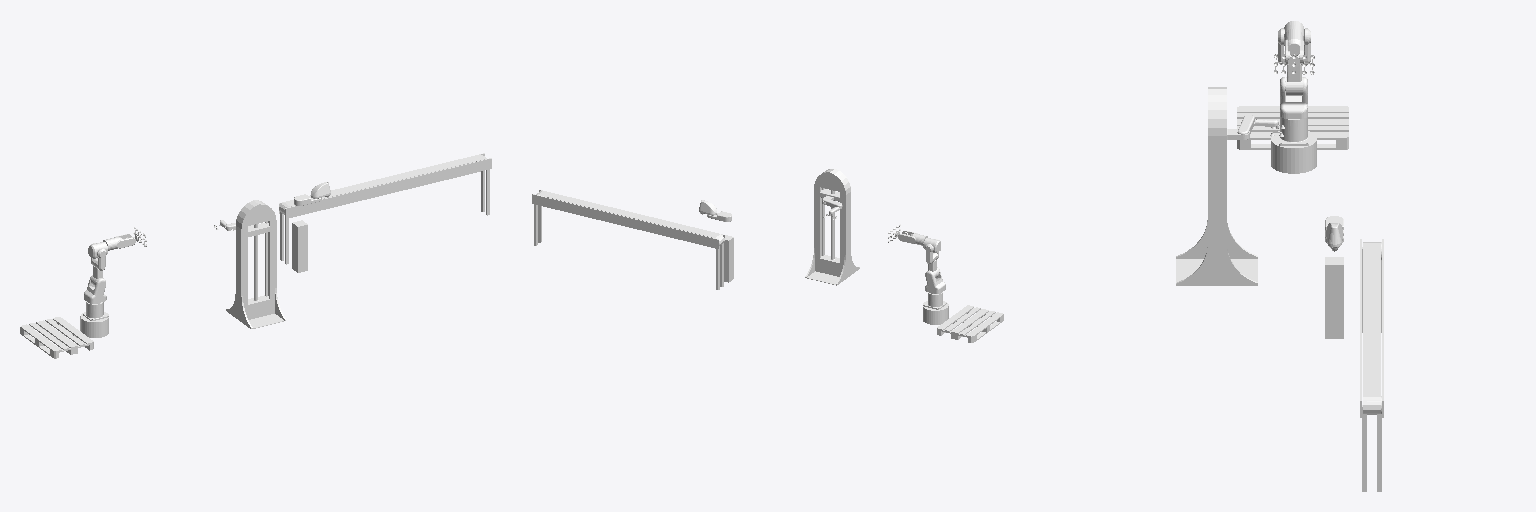
--- What the picture shows (computed from the rendered views, not written in the file) ---
Views: 3 orthographic renders of the robot side by side, from view 1: azimuth 30°, elevation 25°; view 2: azimuth 150°, elevation 25°; view 3: azimuth 270°, elevation 25°.
Robot: rod — 24 links, 23 joints (12 revolute, 2 prismatic, 9 fixed); root link world; default pose: all joints at 0.
Links seen in each view (by area): view 1: conveyor1_joint, pillar_basejoint, palette, scarasocket, sixaxissocket; view 2: conveyor1_joint, pillar_basejoint, palette; view 3: pillar_basejoint, conveyor1_joint, palette, scarasocket, sixaxissocket, sixaxis_j2, sixaxis_j1, sixaxis_joint, sixaxis_j4.
Boxes of the visible links, box(x1,y1,x2,y2) form: conveyor1_joint: box(279, 153, 491, 264); pillar_basejoint: box(226, 200, 285, 328); palette: box(20, 317, 93, 358); scarasocket: box(292, 220, 307, 272); sixaxissocket: box(80, 312, 108, 337); conveyor1_joint: box(532, 190, 724, 289); pillar_basejoint: box(805, 169, 859, 285); palette: box(937, 305, 1003, 342); pillar_basejoint: box(1176, 87, 1257, 285); conveyor1_joint: box(1360, 239, 1383, 491); palette: box(1237, 106, 1348, 149); scarasocket: box(1325, 257, 1343, 338); sixaxissocket: box(1271, 131, 1316, 173); sixaxis_j2: box(1278, 28, 1310, 95); sixaxis_j1: box(1280, 77, 1307, 118); sixaxis_joint: box(1279, 117, 1308, 145); sixaxis_j4: box(1285, 29, 1303, 62).
Size in the robot's own frame: 9.47 by 2.22 by 2.16 metres.
17 mesh visuals loaded from 23 distinct referenced files (17 binary STL); not drawn: 6 (reference not matched to a file when rendering).

robot.urdf — rod:
<?xml version="1.0" encoding="utf-8" ?>
<!-- This URDF was automatically created by SolidWorks to URDF Exporter! Originally created by Stephen Brawner ([email redacted]) 
     Commit Version: 1.6.0-4-g7f85cfe  Build Version: 1.6.7995.38578
     For more information, please see http://wiki.ros.org/sw_urdf_exporter -->
<robot name="rod">
    <link name="world" />
    <joint name="fixed_link_to_world" type="fixed">
        <parent link="world" />
        <child link="base_link" />
    </joint>
    <link name="base_link">
        <inertial>
            <origin xyz="-6.83047368665868E-18 0.025 1.94478764689587E-18" rpy="0 0 0" />
            <mass value="2.375" />
            <inertia ixx="0.000989583333333334" ixy="-8.58326719884358E-21" ixz="2.14581679971091E-21" iyy="0.000989583333333334" iyz="0" izz="0.000989583333333334" />
        </inertial>
        <visual>
            <origin xyz="0 0 0" rpy="0 0 0" />
            <geometry>
                <mesh filename="package://rod/meshes/base_link.STL" />
            </geometry>
            <material name="">
                <color rgba="1 1 1 1" />
            </material>
        </visual>
        <collision>
            <origin xyz="0 0 0" rpy="0 0 0" />
            <geometry>
                <mesh filename="package://rod/meshes/base_link.STL" />
            </geometry>
        </collision>
    </link>
    <link name="scara_basejoint">
        <inertial>
            <origin xyz="8.88178419700125E-16 0 0.180234931906412" rpy="0 0 0" />
            <mass value="50.5064528015554" />
            <inertia ixx="0.507467643046138" ixy="1.24672661923992E-18" ixz="-7.66356004006932E-18" iyy="0.507467643046138" iyz="7.42216945274078E-18" izz="0.164615591191858" />
        </inertial>
        <visual>
            <origin xyz="0 0 0" rpy="0 0 0" />
            <geometry>
                <mesh filename="package://rod/meshes/scara_basejoint.STL" />
            </geometry>
            <material name="">
                <color rgba="1 1 1 1" />
            </material>
        </visual>
        <collision>
            <origin xyz="0 0 0" rpy="0 0 0" />
            <geometry>
                <mesh filename="package://rod/meshes/scara_basejoint.STL" />
            </geometry>
        </collision>
    </link>
    <joint name="sj0" type="fixed">
        <origin xyz="6.4623 -1.1337 0.88" rpy="0 0 0" />
        <parent link="base_link" />
        <child link="scara_basejoint" />
        <axis xyz="0 0 0" />
    </joint>
    <link name="scara_j1">
        <inertial>
            <origin xyz="0.120817727289338 9.30999931370025E-07 0.05137702387886" rpy="0 0 0" />
            <mass value="49.5926714803606" />
            <inertia ixx="0.222900609838825" ixy="1.33392967924855E-16" ixz="0.0739678064109206" iyy="0.736885929341892" iyz="2.45391377787028E-17" izz="0.865091612076402" />
        </inertial>
        <visual>
            <origin xyz="0 0 0" rpy="0 0 0" />
            <geometry>
                <mesh filename="package://rod/meshes/scara_j1.STL" />
            </geometry>
            <material name="">
                <color rgba="1 1 1 1" />
            </material>
        </visual>
        <collision>
            <origin xyz="0 0 0" rpy="0 0 0" />
            <geometry>
                <mesh filename="package://rod/meshes/scara_j1.STL" />
            </geometry>
        </collision>
    </link>
    <joint name="sj1" type="revolute">
        <origin xyz="0 0 0.375" rpy="0 0 0" />
        <parent link="scara_basejoint" />
        <child link="scara_j1" />
        <axis xyz="0 0 1" />
        <limit lower="-2.7" upper="2.7" effort="10" velocity="9.2" />
        <dynamics damping="10" friction="0.1" />
    </joint>
    <link name="scara_j2">
        <inertial>
            <origin xyz="-0.112811619112002 2.03690355693453E-08 -0.0848826662381605" rpy="0 0 0" />
            <mass value="32.5846948095504" />
            <inertia ixx="0.16446281982603" ixy="-2.66721834505766E-07" ixz="0.00501596079266007" iyy="0.377276755482316" iyz="1.55740957962355E-07" izz="0.328743826647256" />
        </inertial>
        <visual>
            <origin xyz="0 0 0" rpy="0 0 0" />
            <geometry>
                <mesh filename="package://rod/meshes/scara_j2.STL" />
            </geometry>
            <material name="">
                <color rgba="1 1 1 1" />
            </material>
        </visual>
        <collision>
            <origin xyz="0 0 0" rpy="0 0 0" />
            <geometry>
                <mesh filename="package://rod/meshes/scara_j2.STL" />
            </geometry>
        </collision>
    </link>
    <joint name="sj2" type="revolute">
        <origin xyz="0.325 0 0.06" rpy="3.1416 0 3.1416" />
        <parent link="scara_j1" />
        <child link="scara_j2" />
        <axis xyz="0 0 1" />
        <limit lower="-2.7" upper="2.7" effort="10" velocity="7.9" />
        <dynamics damping="10" friction="0.1" />
    </joint>
    <link name="scara_j3">
        <inertial>
            <origin xyz="0 2.22044604925031E-16 -0.185" rpy="0 0 0" />
            <mass value="0.460306155603976" />
            <inertia ixx="0.00526283371240547" ixy="3.24877251208374E-37" ixz="-1.64330554039326E-19" iyy="0.00526283371240547" iyz="3.7161231317094E-34" izz="2.30153077801988E-05" />
        </inertial>
        <visual>
            <origin xyz="0 0 0" rpy="0 0 0" />
            <geometry>
                <mesh filename="package://rod/meshes/scara_j3.STL" />
            </geometry>
            <material name="">
                <color rgba="1 1 1 1" />
            </material>
        </visual>
        <collision>
            <origin xyz="0 0 0" rpy="0 0 0" />
            <geometry>
                <mesh filename="package://rod/meshes/scara_j3.STL" />
            </geometry>
        </collision>
    </link>
    <joint name="sj3" type="prismatic">
        <origin xyz="-0.225 0 0.06926" rpy="0 0 0" />
        <parent link="scara_j2" />
        <child link="scara_j3" />
        <axis xyz="0 0 1" />
        <limit lower="0" upper="0.32" effort="10" velocity="2" />
        <dynamics damping="10" friction="0.1" />
    </joint>
    <link name="scara_jEE">
        <inertial>
            <origin xyz="0.00127508094275353 0.00991837529988793 0.0115960504326884" rpy="0 0 0" />
            <mass value="0.00734707672394366" />
            <inertia ixx="1.56955034877568E-06" ixy="0" ixz="-1.65346314681135E-22" iyy="1.56955034877568E-06" iyz="2.96350100271735E-23" izz="2.4656723492173E-06" />
        </inertial>
        <visual>
            <origin xyz="0 0 0" rpy="0 0 0" />
            <geometry>
                <mesh filename="package://rod/meshes/scara_jEE.STL" />
            </geometry>
            <material name="">
                <color rgba="1 1 1 1" />
            </material>
        </visual>
        <collision>
            <origin xyz="0 0 0" rpy="0 0 0" />
            <geometry>
                <mesh filename="package://rod/meshes/scara_jEE.STL" />
            </geometry>
        </collision>
    </link>
    <joint name="sEE" type="revolute">
        <origin xyz="0 0 0.021981" rpy="0 0 -3.0137" />
        <parent link="scara_j3" />
        <child link="scara_jEE" />
        <axis xyz="0 0 1" />
        <limit lower="-6.2" upper="6.2" effort="10" velocity="41.9" />
        <dynamics damping="10" friction="0.1" />
    </joint>
    <link name="sixaxis_joint">
        <inertial>
            <origin xyz="0.159749157671926 0.158 0.147343077754866" rpy="0 0 0" />
            <mass value="59.294110549961" />
            <inertia ixx="0.831304150101565" ixy="5.21752188071823E-17" ixz="0.0140370732527636" iyy="0.843648805366523" iyz="-5.15146620011431E-17" izz="0.683446197561202" />
        </inertial>
        <visual>
            <origin xyz="0 0 0" rpy="0 0 0" />
            <geometry>
                <mesh filename="package://rod/meshes/sixaxis_joint.STL" />
            </geometry>
            <material name="">
                <color rgba="1 1 1 1" />
            </material>
        </visual>
        <collision>
            <origin xyz="0 0 0" rpy="0 0 0" />
            <geometry>
                <mesh filename="package://rod/meshes/sixaxis_joint.STL" />
            </geometry>
        </collision>
    </link>
    <joint name="saj0" type="fixed">
        <origin xyz="1.9713 -1.7268 0.3" rpy="0 0 0" />
        <parent link="base_link" />
        <child link="sixaxis_joint" />
        <axis xyz="0 0 0" />
    </joint>
    <link name="sixaxis_j1">
        <inertial>
            <origin xyz="-0.00259211067215492 0.00270619738140598 0.131756347788593" rpy="0 0 0" />
            <mass value="56.4833957451794" />
            <inertia ixx="1.08439391526667" ixy="0.00787710874493965" ixz="0.0888414783459384" iyy="0.976543348530307" iyz="-0.0302507568899708" izz="0.861678896529092" />
        </inertial>
        <visual>
            <origin xyz="0 0 0" rpy="0 0 0" />
            <geometry>
                <mesh filename="package://rod/meshes/sixaxis_j1.STL" />
            </geometry>
            <material name="">
                <color rgba="1 1 1 1" />
            </material>
        </visual>
        <collision>
            <origin xyz="0 0 0" rpy="0 0 0" />
            <geometry>
                <mesh filename="package://rod/meshes/sixaxis_j1.STL" />
            </geometry>
        </collision>
    </link>
    <joint name="saj1" type="revolute">
        <origin xyz="0.168 0.158 0.317" rpy="0 0 3.1416" />
        <parent link="sixaxis_joint" />
        <child link="sixaxis_j1" />
        <axis xyz="0 0 1" />
        <limit lower="-4.3" upper="4.3" effort="10" velocity="8" />
        <dynamics damping="10" friction="0.1" />
    </joint>
    <link name="sixaxis_j2">
        <inertial>
            <origin xyz="-4.31760227570521E-09 0.258404064748791 -0.000356717994700828" rpy="0 0 0" />
            <mass value="52.2168237503069" />
            <inertia ixx="1.07933618868477" ixy="2.58723091051309E-08" ixz="-1.34009681600937E-07" iyy="0.541524461985699" iyz="0.0353877081559204" izz="0.714833922196119" />
        </inertial>
        <visual>
            <origin xyz="0 0 0" rpy="0 0 0" />
            <geometry>
                <mesh filename="package://rod/meshes/sixaxis_j2.STL" />
            </geometry>
            <material name="">
                <color rgba="1 1 1 1" />
            </material>
        </visual>
        <collision>
            <origin xyz="0 0 0" rpy="0 0 0" />
            <geometry>
                <mesh filename="package://rod/meshes/sixaxis_j2.STL" />
            </geometry>
        </collision>
    </link>
    <joint name="saj2" type="revolute">
        <origin xyz="-0.054129 -0.002 0.32966" rpy="1.5708 0 0" />
        <parent link="sixaxis_j1" />
        <child link="sixaxis_j2" />
        <axis xyz="0 0 1" />
        <limit lower="-2" upper="2" effort="10" velocity="6.6" />
        <dynamics damping="10" friction="0.1" />
    </joint>
    <link name="sixaxis_j3">
        <inertial>
            <origin xyz="0.00477403400076337 0.035439954944116 -0.0156641341829327" rpy="0 0 0" />
            <mass value="33.221439562987" />
            <inertia ixx="0.341529061136126" ixy="0.00128174838595925" ixz="-0.00153661400028046" iyy="0.303384628575149" iyz="-0.0297967616518859" izz="0.257324332747641" />
        </inertial>
        <visual>
            <origin xyz="0 0 0" rpy="0 0 0" />
            <geometry>
                <mesh filename="package://rod/meshes/sixaxis_j3.STL" />
            </geometry>
            <material name="">
                <color rgba="1 1 1 1" />
            </material>
        </visual>
        <collision>
            <origin xyz="0 0 0" rpy="0 0 0" />
            <geometry>
                <mesh filename="package://rod/meshes/sixaxis_j3.STL" />
            </geometry>
        </collision>
    </link>
    <joint name="saj3" type="revolute">
        <origin xyz="0 0.556 0" rpy="3.1416 0 3.1416" />
        <parent link="sixaxis_j2" />
        <child link="sixaxis_j3" />
        <axis xyz="0 0 1" />
        <limit lower="-3.6" upper="1" effort="10" velocity="4.9" />
        <dynamics damping="10" friction="0.1" />
    </joint>
    <link name="sixaxis_j4">
        <inertial>
            <origin xyz="0.000575031491283129 -1.46367007403114E-09 0.230214046287128" rpy="0 0 0" />
            <mass value="35.734803464823" />
            <inertia ixx="0.81176808395228" ixy="1.41424306826545E-07" ixz="-0.00572860613473542" iyy="0.854333032963434" iyz="3.04517481855299E-09" izz="0.20561661100466" />
        </inertial>
        <visual>
            <origin xyz="0 0 0" rpy="0 0 0" />
            <geometry>
                <mesh filename="package://rod/meshes/sixaxis_j4.STL" />
            </geometry>
            <material name="">
                <color rgba="1 1 1 1" />
            </material>
        </visual>
        <collision>
            <origin xyz="0 0 0" rpy="0 0 0" />
            <geometry>
                <mesh filename="package://rod/meshes/sixaxis_j4.STL" />
            </geometry>
        </collision>
    </link>
    <joint name="saj4" type="revolute">
        <origin xyz="0.1245 0.064 0" rpy="3.1416 -1.5708 0" />
        <parent link="sixaxis_j3" />
        <child link="sixaxis_j4" />
        <axis xyz="0 0 1" />
        <limit lower="-4" upper="4" effort="10" velocity="9.8" />
        <dynamics damping="10" friction="0.1" />
    </joint>
    <link name="sixaxis_j5">
        <inertial>
            <origin xyz="-1.46791752086983E-08 -0.0291959911456368 0.0644868991245442" rpy="0 0 0" />
            <mass value="8.17650516153953" />
            <inertia ixx="0.0361761814173097" ixy="-1.2489302263826E-08" ixz="2.71819456875286E-08" iyy="0.0221755722979237" iyz="0.000599929685722274" izz="0.0379199397591049" />
        </inertial>
        <visual>
            <origin xyz="0 0 0" rpy="0 0 0" />
            <geometry>
                <mesh filename="package://rod/meshes/sixaxis_j5.STL" />
            </geometry>
            <material name="">
                <color rgba="1 1 1 1" />
            </material>
        </visual>
        <collision>
            <origin xyz="0 0 0" rpy="0 0 0" />
            <geometry>
                <mesh filename="package://rod/meshes/sixaxis_j5.STL" />
            </geometry>
        </collision>
    </link>
    <joint name="saj5" type="revolute">
        <origin xyz="0 -0.028 0.509" rpy="-1.5708 0.017333 -1.5708" />
        <parent link="sixaxis_j4" />
        <child link="sixaxis_j5" />
        <axis xyz="0 0 1" />
        <limit lower="-2.2" upper="2.1" effort="10" velocity="7.3" />
        <dynamics damping="10" friction="0.1" />
    </joint>
    <link name="sixaxis_j6">
        <inertial>
            <origin xyz="6.02154166495783E-05 4.02968654544811E-05 0.0292969177312066" rpy="0 0 0" />
            <mass value="1.14880650871049" />
            <inertia ixx="0.00255489983767874" ixy="2.41983385261863E-07" ixz="-2.29897197591324E-06" iyy="0.00760875550673298" iyz="-1.24792345175244E-06" izz="0.00920851979414176" />
        </inertial>
        <visual>
            <origin xyz="0 0 0" rpy="0 0 0" />
            <geometry>
                <mesh filename="package://rod/meshes/sixaxis_j6.STL" />
            </geometry>
            <material name="">
                <color rgba="1 1 1 1" />
            </material>
        </visual>
        <collision>
            <origin xyz="0 0 0" rpy="0 0 0" />
            <geometry>
                <mesh filename="package://rod/meshes/sixaxis_j6.STL" />
            </geometry>
        </collision>
    </link>
    <joint name="saj6" type="revolute">
        <origin xyz="-0.027996 -0.12051 0" rpy="-1.5708 1.5535 -3.1416" />
        <parent link="sixaxis_j5" />
        <child link="sixaxis_j6" />
        <axis xyz="0 0 1" />
        <limit lower="-7" upper="7" effort="10" velocity="9.8" />
        <dynamics damping="10" friction="0.1" />
    </joint>
    <link name="pillar_basejoint">
        <inertial>
            <origin xyz="-4.44089209850063E-16 0.961185945397422 -8.88178419700125E-16" rpy="0 0 0" />
            <mass value="440.373181436866" />
            <inertia ixx="262.029566238266" ixy="-5.43245319528198E-14" ixz="3.29644687413778E-07" iyy="28.4875199934351" iyz="-2.15837538433532E-13" izz="239.907466365276" />
        </inertial>
        <visual>
            <origin xyz="0 0 0" rpy="0 0 0" />
            <geometry>
                <mesh filename="package://rod/meshes/pillar_basejoint.STL" />
            </geometry>
            <material name="">
                <color rgba="1 1 1 1" />
            </material>
        </visual>
        <collision>
            <origin xyz="0 0 0" rpy="0 0 0" />
            <geometry>
                <mesh filename="package://rod/meshes/pillar_basejoint.STL" />
            </geometry>
        </collision>
    </link>
    <joint name="pj0" type="fixed">
        <origin xyz="4.8673 -2.3887 0" rpy="1.5708 0 1.5708" />
        <parent link="base_link" />
        <child link="pillar_basejoint" />
        <axis xyz="0 0 0" />
    </joint>
    <link name="pillar_j1">
        <inertial>
            <origin xyz="-1.95449466389164E-07 -0.00349337256815385 0.0423732277986537" rpy="0 0 0" />
            <mass value="30.651712764964" />
            <inertia ixx="0.36020215199646" ixy="6.19370610087378E-08" ixz="4.11840922305E-07" iyy="0.858956456435983" iyz="0.0187045653707118" izz="0.546868746261457" />
        </inertial>
        <visual>
            <origin xyz="0 0 0" rpy="0 0 0" />
            <geometry>
                <mesh filename="package://rod/meshes/pillar_j1.STL" />
            </geometry>
            <material name="">
                <color rgba="1 1 1 1" />
            </material>
        </visual>
        <collision>
            <origin xyz="0 0 0" rpy="0 0 0" />
            <geometry>
                <mesh filename="package://rod/meshes/pillar_j1.STL" />
            </geometry>
        </collision>
    </link>
    <joint name="pj1" type="prismatic">
        <origin xyz="0 1.6358 0" rpy="0 1.5708 0" />
        <parent link="pillar_basejoint" />
        <child link="pillar_j1" />
        <axis xyz="0 1 0" />
        <limit lower="-1.5" upper="0" effort="10" velocity="4" />
        <dynamics damping="10" friction="0.1" />
    </joint>
    <link name="pillar_j2">
        <inertial>
            <origin xyz="-0.20389278870982 0.00802869915568061 -1.33226762955019E-15" rpy="0 0 0" />
            <mass value="8.51611466678159" />
            <inertia ixx="0.0145697647063247" ixy="-0.00198857519140808" ixz="-7.01045124729127E-16" iyy="0.110968677002792" iyz="-2.74303149638833E-17" izz="0.106336249408429" />
        </inertial>
        <visual>
            <origin xyz="0 0 0" rpy="0 0 0" />
            <geometry>
                <mesh filename="package://rod/meshes/pillar_j2.STL" />
            </geometry>
            <material name="">
                <color rgba="1 1 1 1" />
            </material>
        </visual>
        <collision>
            <origin xyz="0 0 0" rpy="0 0 0" />
            <geometry>
                <mesh filename="package://rod/meshes/pillar_j2.STL" />
            </geometry>
        </collision>
    </link>
    <joint name="pj2" type="revolute">
        <origin xyz="0 -0.005 0.275" rpy="3.1416 0.18639 3.1416" />
        <parent link="pillar_j1" />
        <child link="pillar_j2" />
        <axis xyz="0 1 0" />
        <limit lower="-2.3" upper="2.3" effort="10" velocity="9" />
        <dynamics damping="10" friction="0.1" />
    </joint>
    <link name="pillar_j3">
        <inertial>
            <origin xyz="-0.160423416577163 -0.00500192400098287 -1.37272944122913E-07" rpy="0 0 0" />
            <mass value="3.80734223603023" />
            <inertia ixx="0.00337217248789807" ixy="0.00110960155484936" ixz="-6.75409792929627E-09" iyy="0.0330396543637099" iyz="3.70118305217644E-08" izz="0.031793890358559" />
        </inertial>
        <visual>
            <origin xyz="0 0 0" rpy="0 0 0" />
            <geometry>
                <mesh filename="package://rod/meshes/pillar_j3.STL" />
            </geometry>
            <material name="">
                <color rgba="1 1 1 1" />
            </material>
        </visual>
        <collision>
            <origin xyz="0 0 0" rpy="0 0 0" />
            <geometry>
                <mesh filename="package://rod/meshes/pillar_j3.STL" />
            </geometry>
        </collision>
    </link>
    <joint name="pj3" type="revolute">
        <origin xyz="-0.35 -0.015 0" rpy="0 -1.4545 0" />
        <parent link="pillar_j2" />
        <child link="pillar_j3" />
        <axis xyz="0 1 0" />
        <limit lower="-2.6" upper="2.6" effort="10" velocity="9" />
        <dynamics damping="10" friction="0.1" />
    </joint>
    <link name="pillar_j4">
        <inertial>
            <origin xyz="2.66453525910038E-15 0.0100631979177166 1.99840144432528E-15" rpy="0 0 0" />
            <mass value="0.0590779204549206" />
            <inertia ixx="5.6940911598002E-05" ixy="2.07187992469043E-18" ixz="1.71695730890775E-09" iyy="0.000233116350280554" iyz="1.75592991467494E-18" izz="0.000207094473874728" />
        </inertial>
        <visual>
            <origin xyz="0 0 0" rpy="0 0 0" />
            <geometry>
                <mesh filename="package://rod/meshes/pillar_j4.STL" />
            </geometry>
            <material name="">
                <color rgba="1 1 1 1" />
            </material>
        </visual>
        <collision>
            <origin xyz="0 0 0" rpy="0 0 0" />
            <geometry>
                <mesh filename="package://rod/meshes/pillar_j4.STL" />
            </geometry>
        </collision>
    </link>
    <joint name="pj4" type="revolute">
        <origin xyz="-0.305 -0.07 0" rpy="0 1.5708 0" />
        <parent link="pillar_j3" />
        <child link="pillar_j4" />
        <axis xyz="0 1 0" />
        <limit lower="-7" upper="7" effort="10" velocity="8.4" />
        <dynamics damping="10" friction="0.1" />
    </joint>
    <link name="conveyor1_joint">
        <inertial>
            <origin xyz="-0.000942115318398606 0.952215352827483 -0.00494157854618349" rpy="0 0 0" />
            <mass value="50.8597424766946" />
            <inertia ixx="1.09619048071031" ixy="0.00129673052807581" ixz="1.26185849883652E-15" iyy="65.2786046954466" iyz="-2.74782020284304E-16" izz="66.2872533931541" />
        </inertial>
        <visual>
            <origin xyz="0 0 0" rpy="0 0 0" />
            <geometry>
                <mesh filename="package://rod/meshes/conveyor1_joint.STL" />
            </geometry>
            <material name="">
                <color rgba="1 1 1 1" />
            </material>
        </visual>
        <collision>
            <origin xyz="0 0 0" rpy="0 0 0" />
            <geometry>
                <mesh filename="package://rod/meshes/conveyor1_joint.STL" />
            </geometry>
        </collision>
    </link>
    <joint name="c1" type="fixed">
        <origin xyz="8.3923 -0.73373 0" rpy="1.5708 0 0" />
        <parent link="base_link" />
        <child link="conveyor1_joint" />
        <axis xyz="0 0 0" />
    </joint>
    <link name="conveyor2_joint">
        <inertial>
            <origin xyz="1.5307101757004 -0.0241824929759273 -0.00537615646786227" rpy="0 0 0" />
            <mass value="58.4356625847735" />
            <inertia ixx="1.41689660245919" ixy="0.00129673052812497" ixz="7.57182992613183E-15" iyy="73.0344402159455" iyz="-3.22658566531686E-16" izz="73.8353282180731" />
        </inertial>
        <visual>
            <origin xyz="0 0 0" rpy="0 0 0" />
            <geometry>
                <mesh filename="package://rod/meshes/conveyor2_joint.STL" />
            </geometry>
            <material name="">
                <color rgba="1 1 1 1" />
            </material>
        </visual>
        <collision>
            <origin xyz="0 0 0" rpy="0 0 0" />
            <geometry>
                <mesh filename="package://rod/meshes/conveyor2_joint.STL" />
            </geometry>
        </collision>
    </link>
    <joint name="c2" type="fixed">
        <origin xyz="2.7413 -1.5637 0.98" rpy="1.5708 0 0" />
        <parent link="base_link" />
        <child link="conveyor2_joint" />
        <axis xyz="0 0 0" />
    </joint>
    <link name="scarasocket">
        <inertial>
            <origin xyz="8.88178419700125E-16 0.44 0" rpy="0 0 0" />
            <mass value="35.1999999999999" />
            <inertia ixx="2.38890666666666" ixy="2.31296463463572E-17" ixz="4.41082355825035E-17" iyy="0.234666666666665" iyz="4.62592926927139E-18" izz="2.38890666666666" />
        </inertial>
        <visual>
            <origin xyz="0 0 0" rpy="0 0 0" />
            <geometry>
                <mesh filename="package://rod/meshes/scarasocket.STL" />
            </geometry>
            <material name="">
                <color rgba="1 1 1 1" />
            </material>
        </visual>
        <collision>
            <origin xyz="0 0 0" rpy="0 0 0" />
            <geometry>
                <mesh filename="package://rod/meshes/scarasocket.STL" />
            </geometry>
        </collision>
    </link>
    <joint name="sb" type="fixed">
        <origin xyz="6.4673 -1.1387 0" rpy="1.5708 0 0" />
        <parent link="base_link" />
        <child link="scarasocket" />
        <axis xyz="0 0 0" />
    </joint>
    <link name="sixaxissocket">
        <inertial>
            <origin xyz="0 0.15 2.22044604925031E-16" rpy="0 0 0" />
            <mass value="58.9048622548086" />
            <inertia ixx="1.36217493964245" ixy="-4.26869128140131E-33" ixz="0" iyy="1.84077694546277" iyz="-6.01853107621011E-33" izz="1.36217493964245" />
        </inertial>
        <visual>
            <origin xyz="0 0 0" rpy="0 0 0" />
            <geometry>
                <mesh filename="package://rod/meshes/sixaxissocket.STL" />
            </geometry>
            <material name="">
                <color rgba="1 1 1 1" />
            </material>
        </visual>
        <collision>
            <origin xyz="0 0 0" rpy="0 0 0" />
            <geometry>
                <mesh filename="package://rod/meshes/sixaxissocket.STL" />
            </geometry>
        </collision>
    </link>
    <joint name="sab" type="fixed">
        <origin xyz="2.1293 -1.5688 0" rpy="1.5708 0 0" />
        <parent link="base_link" />
        <child link="sixaxissocket" />
        <axis xyz="0 0 0" />
    </joint>
    <link name="palette">
        <inertial>
            <origin xyz="2.22044604925031E-16 0.086526837351779 0" rpy="0 0 0" />
            <mass value="45.493833" />
            <inertia ixx="6.79901449497636" ixy="1.0377254543141E-16" ixz="-8.74138001566438E-16" iyy="9.58215874546149" iyz="-1.00335211422889E-16" izz="2.99877961380136" />
        </inertial>
        <visual>
            <origin xyz="0 0 0" rpy="0 0 0" />
            <geometry>
                <mesh filename="package://rod/meshes/palette.STL" />
            </geometry>
            <material name="">
                <color rgba="1 1 1 1" />
            </material>
        </visual>
        <collision>
            <origin xyz="0 0 0" rpy="0 0 0" />
            <geometry>
                <mesh filename="package://rod/meshes/palette.STL" />
            </geometry>
        </collision>
    </link>
    <joint name="p1" type="fixed">
        <origin xyz="1.37133688915711 -1.57677167234082 0" rpy="1.5707963267949 0 0" />
        <parent link="base_link" />
        <child link="palette" />
        <axis xyz="0 0 0" />
    </joint>
    <transmission name="trans_sj1">
        <type>transmission_interface/SimpleTransmission</type>
        <joint name="sj1">
            <hardwareInterface>hardware_interface/PositionJointInterface</hardwareInterface>
        </joint>
        <actuator name="sj1_motor">
            <hardwareInterface>hardware_interface/PositionJointInterface</hardwareInterface>
            <mechanicalReduction>1</mechanicalReduction>
        </actuator>
    </transmission>
    <transmission name="trans_sj2">
        <type>transmission_interface/SimpleTransmission</type>
        <joint name="sj2">
            <hardwareInterface>hardware_interface/PositionJointInterface</hardwareInterface>
        </joint>
        <actuator name="sj2_motor">
            <hardwareInterface>hardware_interface/PositionJointInterface</hardwareInterface>
            <mechanicalReduction>1</mechanicalReduction>
        </actuator>
    </transmission>
    <transmission name="trans_sj3">
        <type>transmission_interface/SimpleTransmission</type>
        <joint name="sj3">
            <hardwareInterface>hardware_interface/PositionJointInterface</hardwareInterface>
        </joint>
        <actuator name="sj3_motor">
            <hardwareInterface>hardware_interface/PositionJointInterface</hardwareInterface>
            <mechanicalReduction>1</mechanicalReduction>
        </actuator>
    </transmission>
    <transmission name="trans_sEE">
        <type>transmission_interface/SimpleTransmission</type>
        <joint name="sEE">
            <hardwareInterface>hardware_interface/PositionJointInterface</hardwareInterface>
        </joint>
        <actuator name="sEE_motor">
            <hardwareInterface>hardware_interface/PositionJointInterface</hardwareInterface>
            <mechanicalReduction>1</mechanicalReduction>
        </actuator>
    </transmission>
    <transmission name="trans_saj1">
        <type>transmission_interface/SimpleTransmission</type>
        <joint name="saj1">
            <hardwareInterface>hardware_interface/PositionJointInterface</hardwareInterface>
        </joint>
        <actuator name="saj1_motor">
            <hardwareInterface>hardware_interface/PositionJointInterface</hardwareInterface>
            <mechanicalReduction>1</mechanicalReduction>
        </actuator>
    </transmission>
    <transmission name="trans_saj2">
        <type>transmission_interface/SimpleTransmission</type>
        <joint name="saj2">
            <hardwareInterface>hardware_interface/PositionJointInterface</hardwareInterface>
        </joint>
        <actuator name="saj2_motor">
            <hardwareInterface>hardware_interface/PositionJointInterface</hardwareInterface>
            <mechanicalReduction>1</mechanicalReduction>
        </actuator>
    </transmission>
    <transmission name="trans_saj3">
        <type>transmission_interface/SimpleTransmission</type>
        <joint name="saj3">
            <hardwareInterface>hardware_interface/PositionJointInterface</hardwareInterface>
        </joint>
        <actuator name="saj3_motor">
            <hardwareInterface>hardware_interface/PositionJointInterface</hardwareInterface>
            <mechanicalReduction>1</mechanicalReduction>
        </actuator>
    </transmission>
    <transmission name="trans_saj4">
        <type>transmission_interface/SimpleTransmission</type>
        <joint name="saj4">
            <hardwareInterface>hardware_interface/PositionJointInterface</hardwareInterface>
        </joint>
        <actuator name="saj4_motor">
            <hardwareInterface>hardware_interface/PositionJointInterface</hardwareInterface>
            <mechanicalReduction>1</mechanicalReduction>
        </actuator>
    </transmission>
    <transmission name="trans_saj5">
        <type>transmission_interface/SimpleTransmission</type>
        <joint name="saj5">
            <hardwareInterface>hardware_interface/PositionJointInterface</hardwareInterface>
        </joint>
        <actuator name="saj5_motor">
            <hardwareInterface>hardware_interface/PositionJointInterface</hardwareInterface>
            <mechanicalReduction>1</mechanicalReduction>
        </actuator>
    </transmission>
    <transmission name="trans_saj6">
        <type>transmission_interface/SimpleTransmission</type>
        <joint name="saj6">
            <hardwareInterface>hardware_interface/PositionJointInterface</hardwareInterface>
        </joint>
        <actuator name="saj6_motor">
            <hardwareInterface>hardware_interface/PositionJointInterface</hardwareInterface>
            <mechanicalReduction>1</mechanicalReduction>
        </actuator>
    </transmission>
    <transmission name="trans_pj1">
        <type>transmission_interface/SimpleTransmission</type>
        <joint name="pj1">
            <hardwareInterface>hardware_interface/PositionJointInterface</hardwareInterface>
        </joint>
        <actuator name="pj1_motor">
            <hardwareInterface>hardware_interface/PositionJointInterface</hardwareInterface>
            <mechanicalReduction>1</mechanicalReduction>
        </actuator>
    </transmission>
    <transmission name="trans_pj2">
        <type>transmission_interface/SimpleTransmission</type>
        <joint name="pj2">
            <hardwareInterface>hardware_interface/PositionJointInterface</hardwareInterface>
        </joint>
        <actuator name="pj2_motor">
            <hardwareInterface>hardware_interface/PositionJointInterface</hardwareInterface>
            <mechanicalReduction>1</mechanicalReduction>
        </actuator>
    </transmission>
    <transmission name="trans_pj3">
        <type>transmission_interface/SimpleTransmission</type>
        <joint name="pj3">
            <hardwareInterface>hardware_interface/PositionJointInterface</hardwareInterface>
        </joint>
        <actuator name="pj3_motor">
            <hardwareInterface>hardware_interface/PositionJointInterface</hardwareInterface>
            <mechanicalReduction>1</mechanicalReduction>
        </actuator>
    </transmission>
    <transmission name="trans_pj4">
        <type>transmission_interface/SimpleTransmission</type>
        <joint name="pj4">
            <hardwareInterface>hardware_interface/PositionJointInterface</hardwareInterface>
        </joint>
        <actuator name="pj4_motor">
            <hardwareInterface>hardware_interface/PositionJointInterface</hardwareInterface>
            <mechanicalReduction>1</mechanicalReduction>
        </actuator>
    </transmission>
    <gazebo>
        <plugin name="gazebo_ros_control" filename="libgazebo_ros_control.so">
            <robotNamespace>/</robotNamespace>
        </plugin>
    </gazebo>
</robot>
